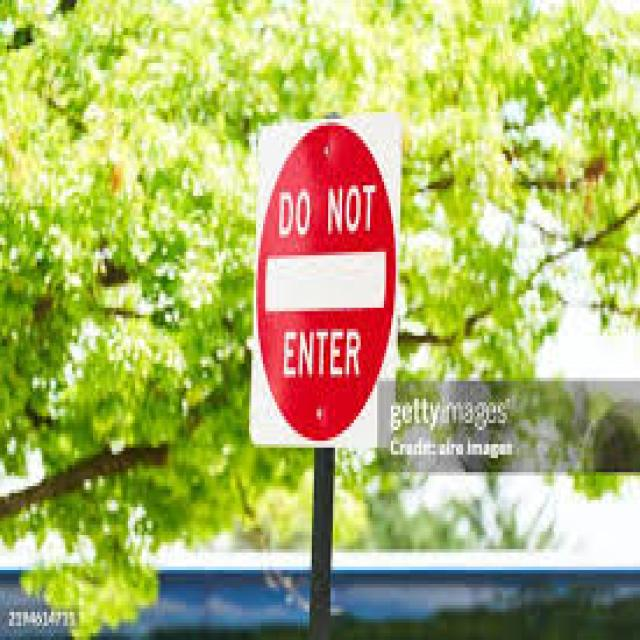doNotEnter: (253, 116, 400, 446)
